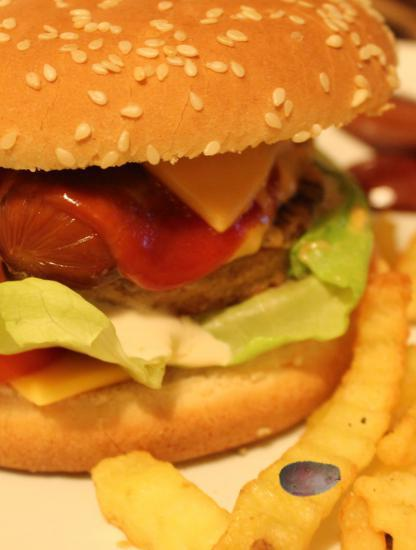Potato: (278, 444, 347, 513)
